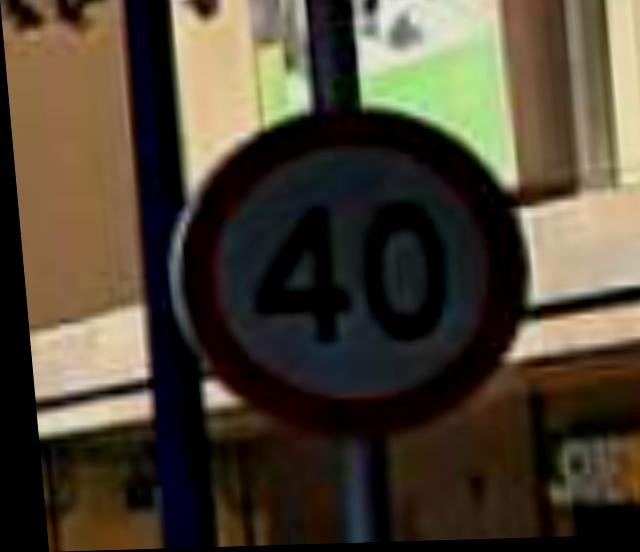limit40: (155, 107, 542, 438)
